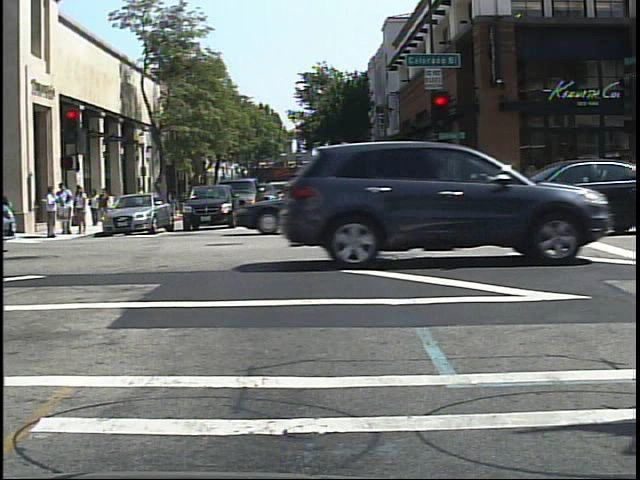person: (134, 183, 151, 219), (165, 182, 182, 218), (89, 187, 103, 228)
